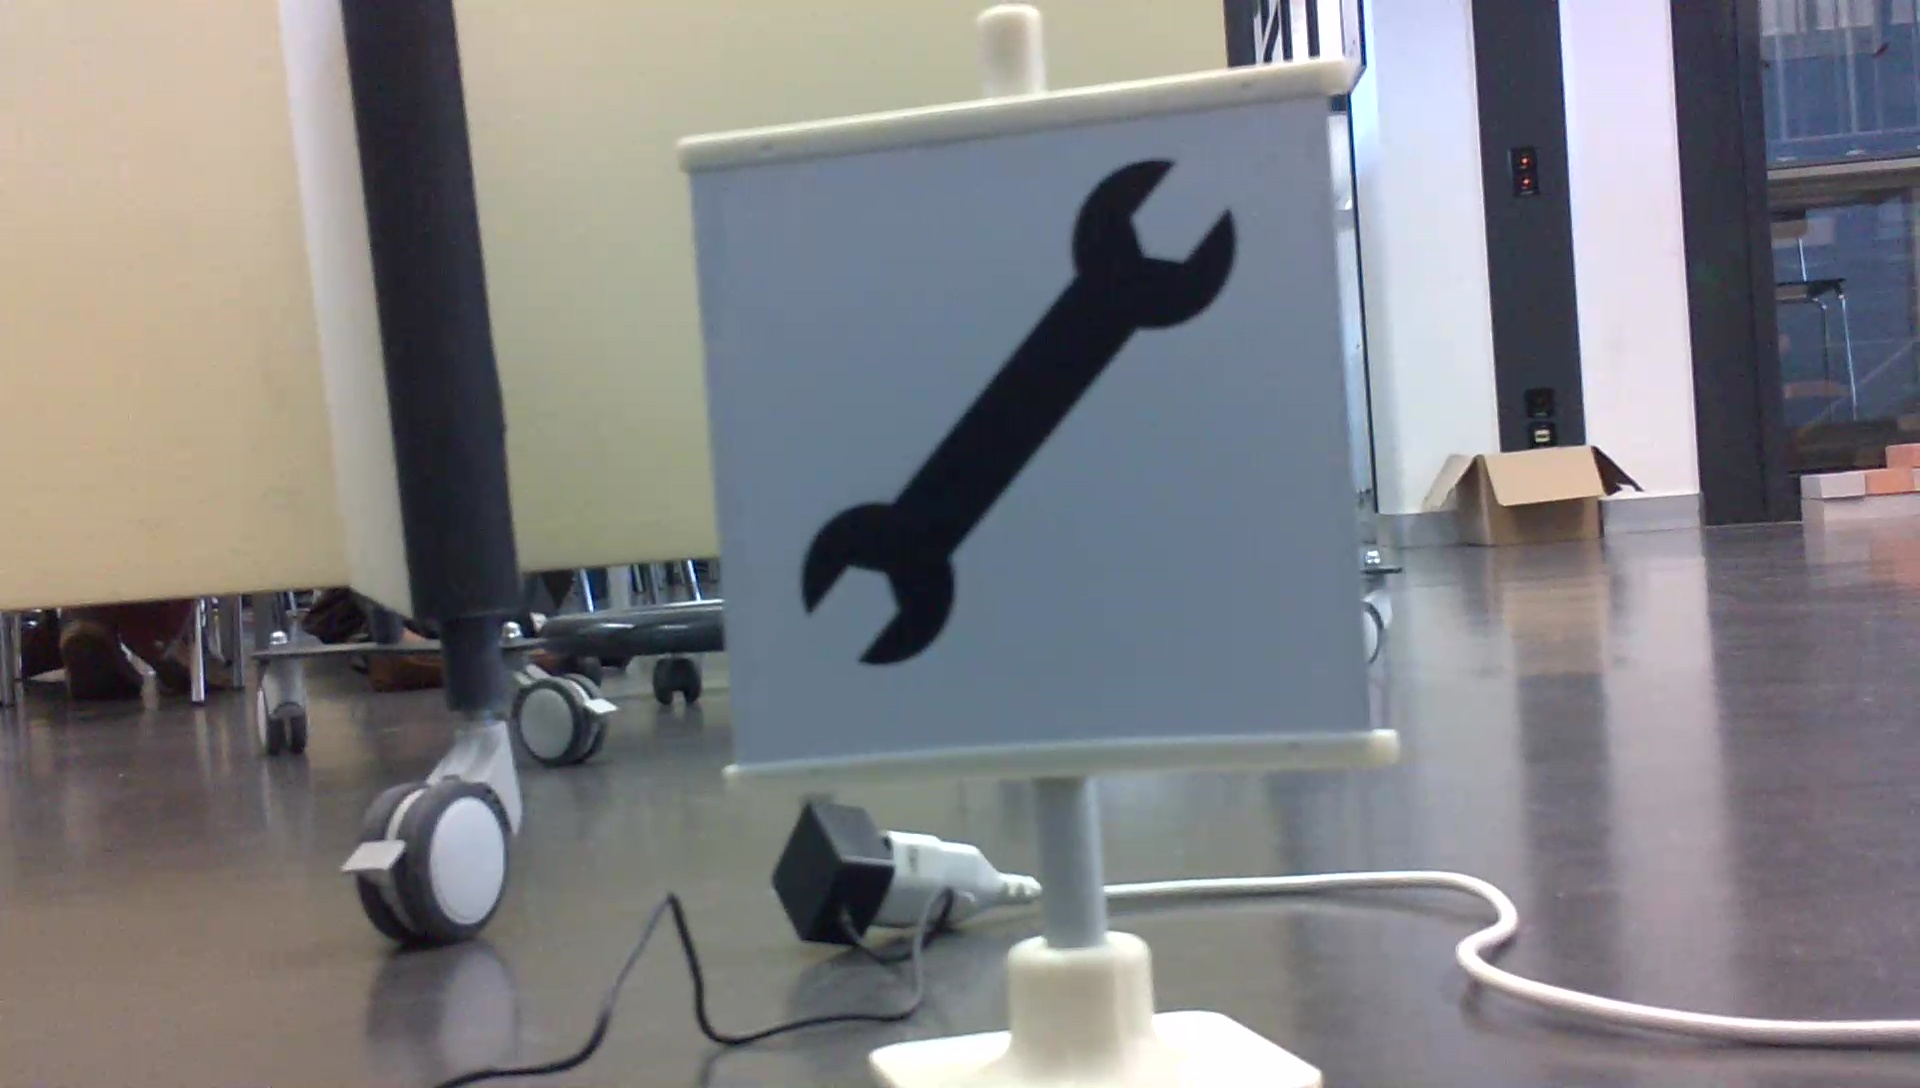wrench: (785, 142, 1255, 680)
